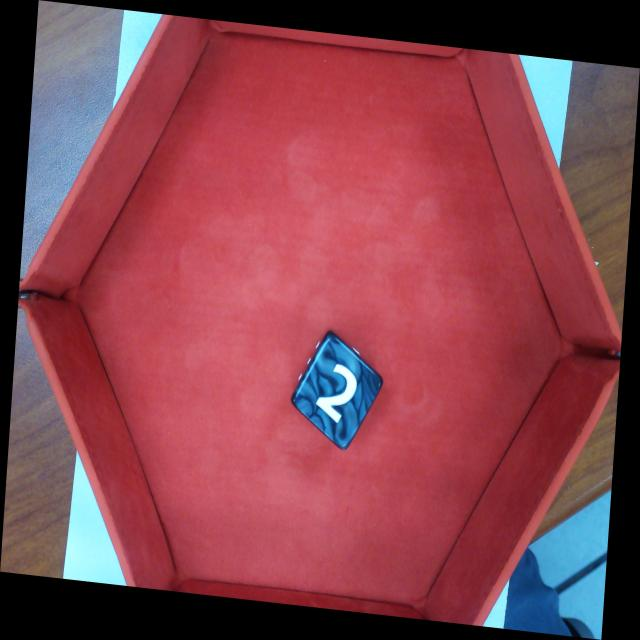dice: (291, 332, 384, 452)
